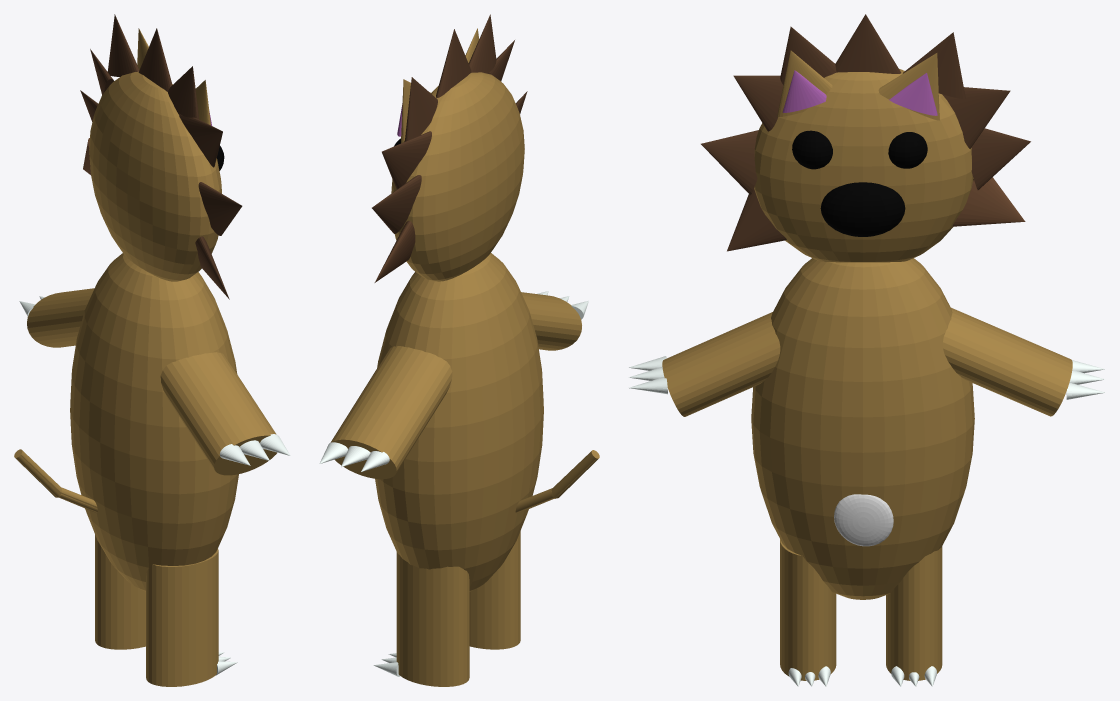
The model's file is BearStatue 1.fbx.
3 views of the same model, side by side, from view 1: azimuth 30°, elevation 25°; view 2: azimuth 150°, elevation 25°; view 3: azimuth 270°, elevation 25° (orthographic). The views are drawn at different scales.
Parts seen in each view (by area): view 1: Sphere.001, Sphere, Cylinder, Cylinder.003, Cylinder.001, Cylinder.002, Cone.007, Cone.001, Cone.006, Cone, Cone.005, Cylinder.004 (+3 smaller); view 2: Sphere.001, Sphere, Cylinder.002, Cylinder.001, Cylinder, Cylinder.003, Cone.002, Cone.003, Cone.001, Cone, Cone.005, Cone.004 (+2 smaller); view 3: Sphere.001, Sphere, Cylinder.002, Cylinder.003, Cylinder, Cylinder.001, Sphere.002, Sphere.005, Cone, Cone.004, Cone.002, Cone.003 (+11 smaller).
Part boxes in pixels (x1,y1,x2,y2): Sphere.001: [70, 253, 238, 591]; Sphere: [89, 71, 221, 281]; Cylinder: [146, 548, 218, 686]; Cylinder.003: [160, 352, 276, 475]; Cylinder.001: [95, 535, 145, 649]; Cylinder.002: [27, 288, 94, 347]; Cone.007: [198, 182, 242, 235]; Cone.001: [107, 14, 139, 76]; Cone.006: [179, 113, 222, 167]; Cone: [138, 28, 172, 91]; Cone.005: [168, 66, 199, 119]; Cylinder.004: [14, 449, 61, 497]; Sphere.001: [375, 253, 543, 591]; Sphere: [391, 72, 524, 281]; Cylinder.002: [330, 346, 452, 479]; Cylinder.001: [396, 552, 469, 686]; Cylinder: [469, 531, 520, 649]; Cylinder.003: [521, 292, 581, 350]; Cone.002: [382, 131, 431, 189]; Cone.003: [372, 175, 421, 233]; Cone.001: [404, 77, 437, 141]; Cone: [436, 29, 471, 97]; Cone.005: [468, 14, 496, 74]; Cone.004: [374, 220, 415, 282]; Sphere.001: [751, 258, 974, 599]; Sphere: [754, 69, 973, 262]; Cylinder.002: [943, 307, 1072, 416]; Cylinder.003: [662, 312, 780, 416]; Cylinder: [780, 539, 836, 680]; Cylinder.001: [886, 546, 942, 680]; Sphere.002: [820, 182, 905, 236]; Sphere.005: [834, 494, 893, 546]; Cone: [835, 14, 901, 73]; Cone.004: [952, 177, 1025, 226]; Cone.002: [942, 87, 1010, 148]; Cone.003: [971, 128, 1030, 189].
Bounding box in the file's own units: 2.24 × 6.46 × 4.27.
